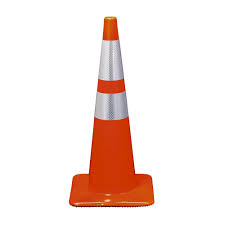cones: (70, 15, 155, 208)
